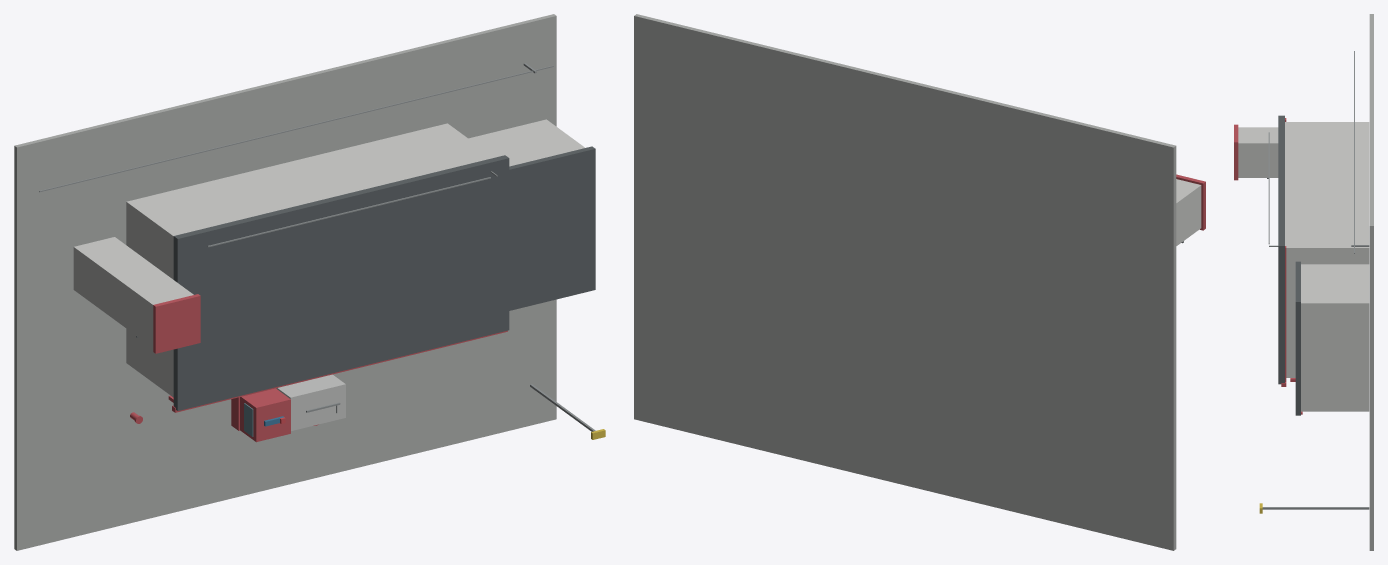
The model's file is fire_station_apt_pranoto.glb.
The picture shows the model from 3 angles, left to right: view 1: azimuth 30°, elevation 25°; view 2: azimuth 150°, elevation 25°; view 3: azimuth 270°, elevation 25°; orthographic projection. The views are drawn at different scales.
Parts seen in each view (by area): view 1: Fire station apron, Flat roof slab, Main fire station building, Side wing roof, Hose drying tower, Side office wing, Fire truck equipment body, Tower red cap, Fire truck cab, Fence rail; view 2: Fire station apron, Hose drying tower; view 3: Main fire station building, Side office wing, Fire station apron, Hose drying tower, Flat roof slab, Side wing roof, Apron light pole, Tower red cap, Red side fascia, Roof safety rail, Fence rail.
Part boxes in pixels (bbox=[...]): Fire station apron: bbox=[14, 14, 556, 550]; Flat roof slab: bbox=[173, 155, 509, 410]; Main fire station building: bbox=[126, 123, 494, 397]; Side wing roof: bbox=[509, 146, 595, 310]; Hose drying tower: bbox=[73, 237, 193, 347]; Side office wing: bbox=[468, 119, 584, 166]; Fire truck equipment body: bbox=[276, 374, 345, 430]; Tower red cap: bbox=[153, 294, 200, 353]; Fire truck cab: bbox=[240, 388, 290, 442]; Fence rail: bbox=[39, 65, 553, 192]; Fire station apron: bbox=[634, 14, 1176, 550]; Hose drying tower: bbox=[1176, 179, 1201, 245]; Main fire station building: bbox=[1285, 122, 1369, 377]; Side office wing: bbox=[1301, 264, 1369, 411]; Fire station apron: bbox=[1369, 14, 1373, 550]; Hose drying tower: bbox=[1238, 127, 1278, 177]; Flat roof slab: bbox=[1278, 115, 1284, 384]; Side wing roof: bbox=[1295, 261, 1300, 415]; Apron light pole: bbox=[1262, 507, 1369, 509]; Tower red cap: bbox=[1234, 124, 1238, 180]; Red side fascia: bbox=[1285, 246, 1286, 381]; Roof safety rail: bbox=[1268, 132, 1269, 244]; Fence rail: bbox=[1354, 51, 1354, 253].
Size of the model in its own units: 42 by 30 by 11.7.
